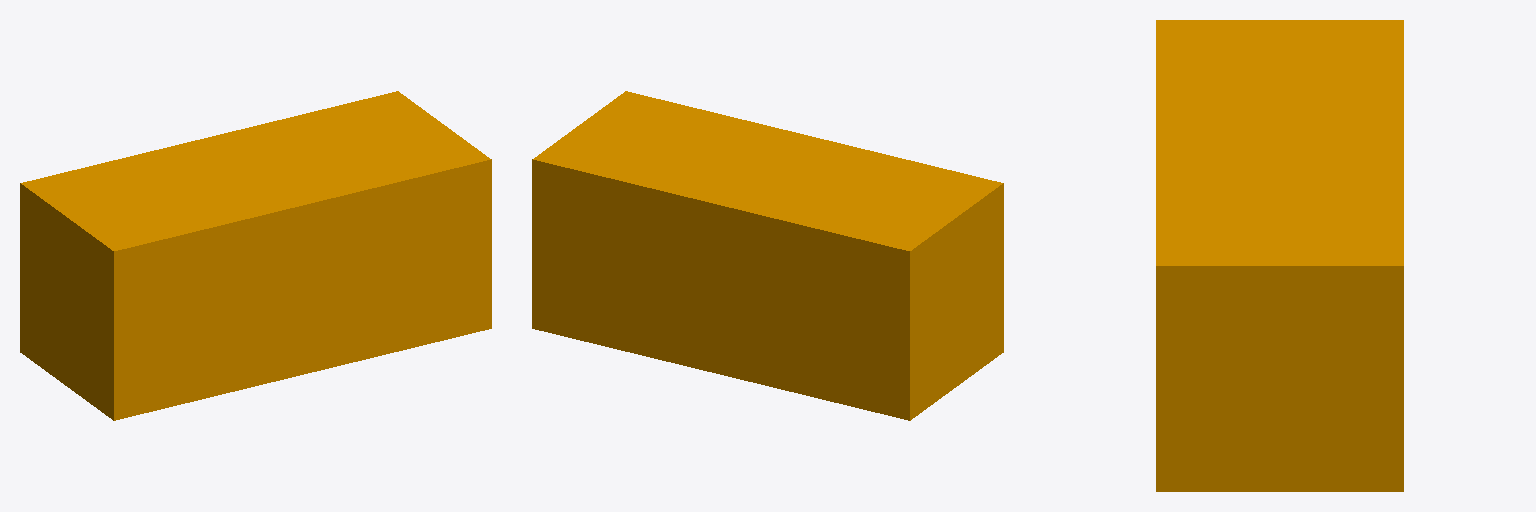
robot.urdf — block:
<robot name="block">
  <link name="block_link">
    <inertial>
      <origin xyz="0.0 0.0 0.0" />
      <mass value="0.5" />
      <inertia  ixx="0.000075" ixy="0.0"  ixz="0.0"  iyy="0.000241667"  iyz="0.0"  izz="0.000241667" />
    </inertial>
    <visual>
      <origin xyz="0.0 0.0 0.0"/>
      <geometry>
        <box size="0.07 0.03 0.03" />
      </geometry>
    </visual>
    <collision>
      <origin xyz="0.0 0.0 0.0"/>
      <geometry>
        <box size="0.07 0.03 0.03" />
      </geometry>
    </collision>
  </link>
  <gazebo reference="block_link">
     <material>Gazebo/Gold</material>
     <mu1>0.2</mu1>
     <mu2>0.2</mu2>
     <maxVel>0.1</maxVel>
     <minDepth>0.0001</minDepth>
  </gazebo>
</robot>

--- Render facts (derived) ---
The picture shows the robot from 3 angles, left to right: view 1: azimuth 30°, elevation 25°; view 2: azimuth 150°, elevation 25°; view 3: azimuth 270°, elevation 25°; orthographic projection.
Robot: block — 1 links, 0 joints (none); root link block_link; default pose: every joint at zero.
Links seen in each view (by area): view 1: block_link; view 2: block_link; view 3: block_link.
Link boxes in pixels (x1=…): block_link: x1=20, y1=91, x2=491, y2=420; block_link: x1=532, y1=91, x2=1003, y2=420; block_link: x1=1156, y1=20, x2=1403, y2=491.
Bounding box of the posed robot: 0.07 × 0.03 × 0.03 m (x, y, z).
Geometry: primitives only (box / cylinder / sphere), no mesh files.